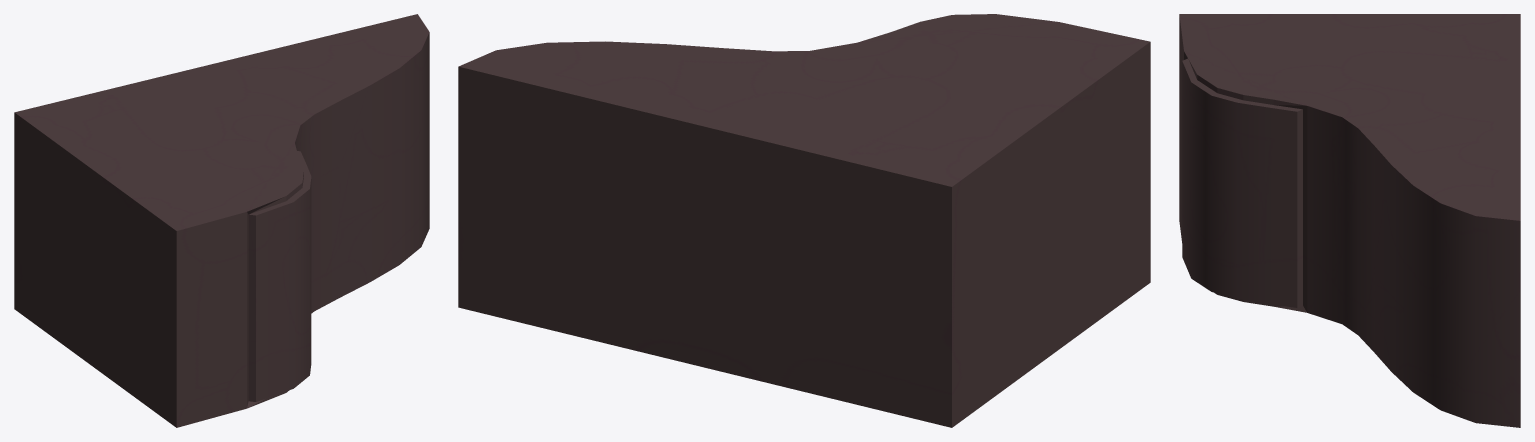
Rendered from Table.FBX.
3 views of the same model, side by side, from view 1: azimuth 30°, elevation 25°; view 2: azimuth 150°, elevation 25°; view 3: azimuth 270°, elevation 25° (orthographic). The views are drawn at different scales.
Visible parts, largest first — view 1: node_id4; view 2: node_id4; view 3: node_id4.
Part boxes in pixels (bbox=[...]): node_id4: bbox=[14, 14, 429, 427]; node_id4: bbox=[458, 14, 1150, 427]; node_id4: bbox=[1179, 14, 1520, 427].
Bounding box in the file's own units: 0.512 × 0.2388 × 0.3568.
Materials: 1 (1 with a texture image).
